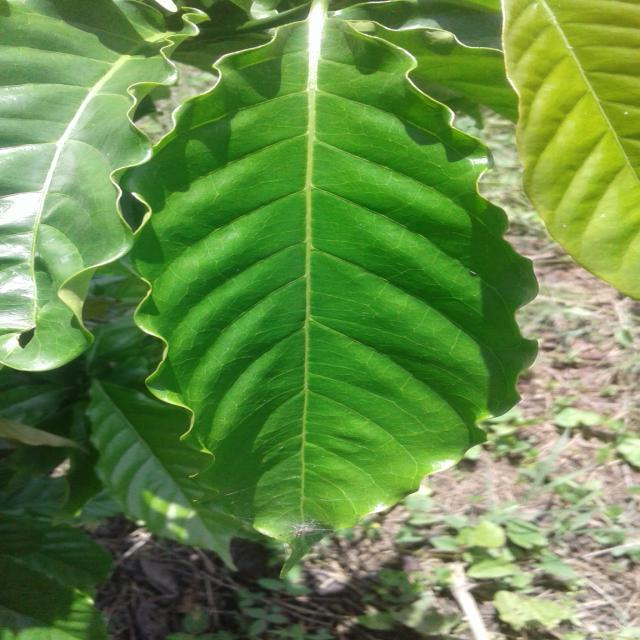Sanas: (111, 3, 538, 563)
